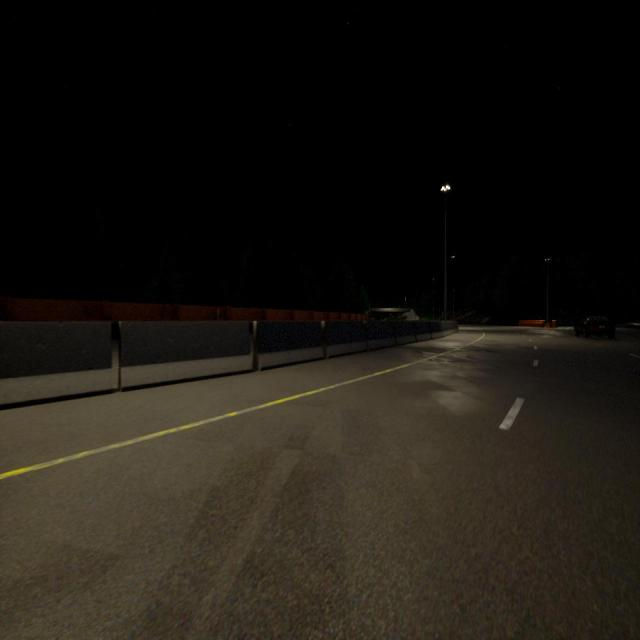Vehicle: (575, 316, 615, 339), (361, 308, 417, 320)
